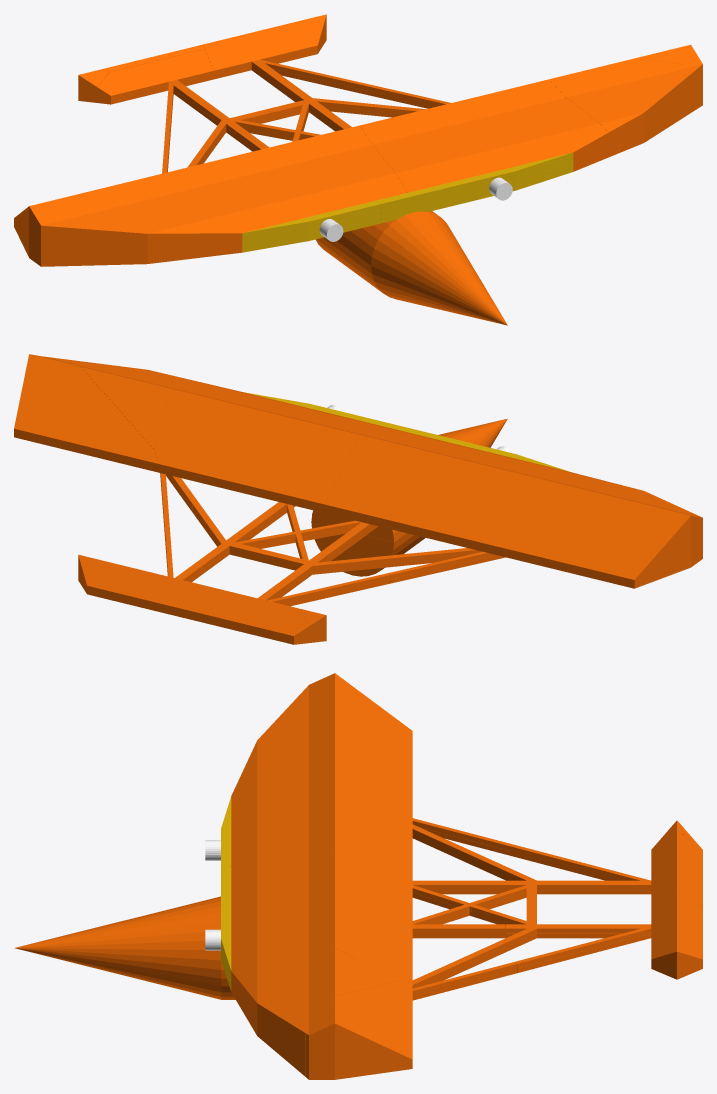
The model's file is WrightMilitaryFlyerOrangeDebris.dae.
3 renders of one model, top to bottom at view 1: azimuth 30°, elevation 25°; view 2: azimuth 150°, elevation 25°; view 3: azimuth 270°, elevation 25°, orthographic. The views are drawn at different scales.
Parts seen in each view (by area): view 1: Cube.008_cell.002, Cube.008_cell.001, Cone_cell, Cube.008_cell.003, Cube.011_cell.001, Cube.011_cell.003, Cube.006_cell.002, Cube.006_cell, Cube.001_cell, Cube.001_cell.002, Cube.008_cell, Cube.003_cell.002 (+8 smaller); view 2: Cube.008_cell.002, Cube.008_cell.001, Cube.008_cell, Cube.011_cell.002, Cube.011_cell.001, Cube.008_cell.003, Cone_cell.002, Cube.001_cell.002, Cube.002_cell.002, Cube.001_cell, Cone_cell, Cube.006_cell.002 (+10 smaller); view 3: Cube.008_cell.002, Cube.008_cell.001, Cone_cell, Cube.008_cell, Cube.008_cell.003, Cube.011_cell.001, Cube.011_cell.002, Cube.002_cell.002, Cube.000_cell.002, Cube.010_cell.001, Cube.003_cell.003, Cube.001_cell (+14 smaller).
Part boxes in pixels (x1,y1,x2,y2): Cube.008_cell.002: (14, 125, 407, 266); Cube.008_cell.001: (360, 79, 608, 192); Cone_cell: (336, 211, 507, 325); Cube.008_cell.003: (549, 57, 699, 157); Cube.011_cell.001: (203, 14, 326, 79); Cube.011_cell.003: (83, 49, 214, 104); Cube.006_cell.002: (376, 160, 544, 223); Cube.006_cell: (242, 200, 381, 252); Cube.001_cell: (267, 98, 407, 120); Cube.001_cell.002: (192, 109, 271, 164); Cube.008_cell: (640, 44, 702, 107); Cube.003_cell.002: (260, 59, 386, 94); Cube.008_cell.002: (324, 430, 702, 588); Cube.008_cell.001: (154, 380, 405, 512); Cube.008_cell: (14, 354, 158, 472); Cube.011_cell.002: (186, 585, 320, 644); Cube.011_cell.001: (78, 554, 201, 618); Cube.008_cell.003: (48, 357, 192, 449); Cone_cell.002: (314, 533, 420, 576); Cube.001_cell.002: (267, 551, 411, 574); Cube.002_cell.002: (267, 573, 390, 606); Cube.001_cell: (193, 503, 271, 563); Cone_cell: (417, 418, 507, 543); Cube.006_cell.002: (274, 398, 443, 439); Cube.008_cell.002: (231, 673, 412, 894); Cube.008_cell.001: (231, 848, 412, 1013); Cone_cell: (14, 896, 235, 999); Cube.008_cell: (306, 980, 412, 1079); Cube.008_cell.003: (244, 948, 399, 1076); Cube.011_cell.001: (651, 886, 702, 979); Cube.011_cell.002: (672, 834, 702, 906); Cube.002_cell.002: (511, 844, 645, 880); Cube.000_cell.002: (412, 924, 505, 938); Cube.010_cell.001: (506, 880, 651, 889); Cube.003_cell.003: (412, 962, 517, 1000); Cube.001_cell: (459, 904, 536, 970).
Bounding box in the file's own units: 16 × 13.29 × 3.12.
